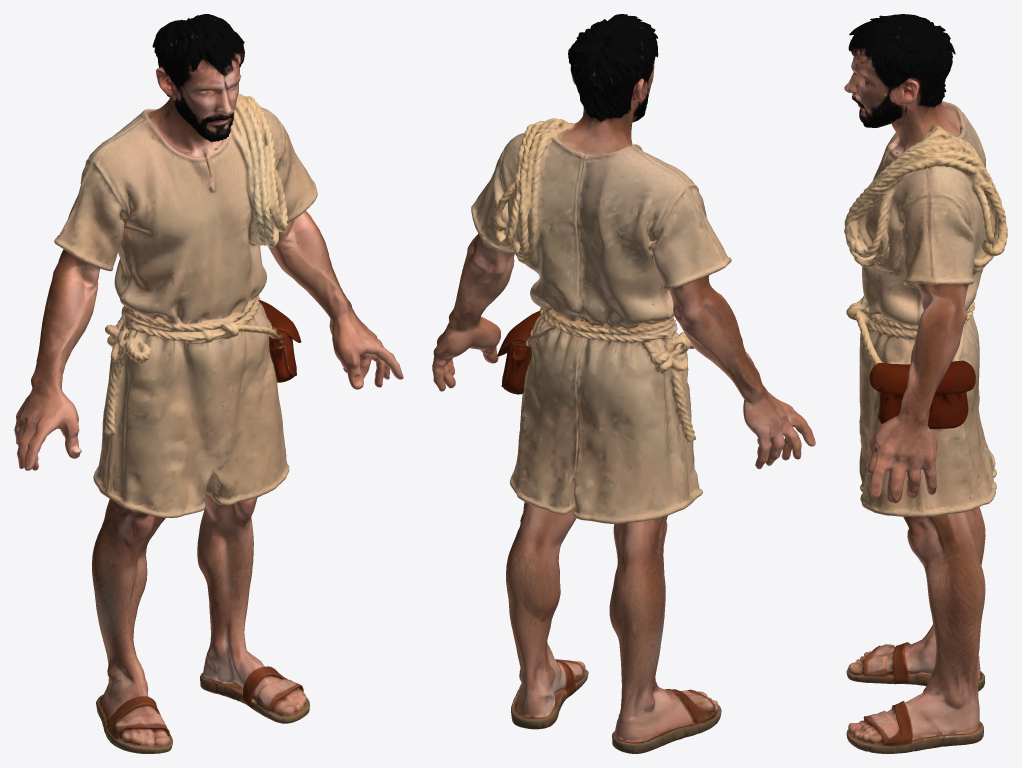
Rendered from hunter_rodin_source.glb.
3 views of the same model, side by side, from view 1: azimuth 30°, elevation 25°; view 2: azimuth 150°, elevation 25°; view 3: azimuth 270°, elevation 25° (orthographic).
Parts seen in each view (by area): view 1: hunter; view 2: hunter; view 3: hunter.
Boxes of the visible parts, x1,y1,x2,y2 form: hunter: (14,14,403,753); hunter: (432,14,815,753); hunter: (844,14,1007,753).
Bounding box in the file's own units: 1.07 × 1.9 × 0.407.
Materials: 1 (1 with a texture image).
